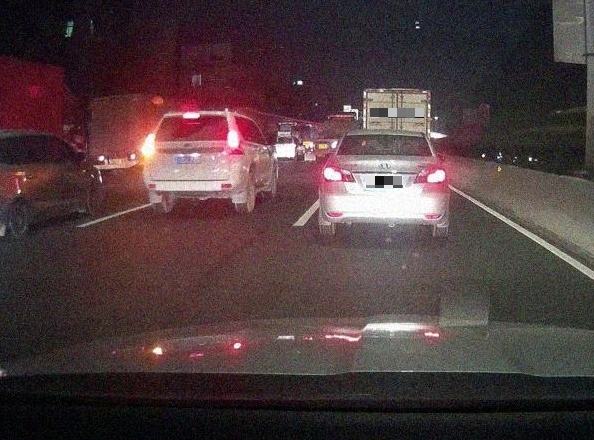L_light: (323, 166, 356, 183), (142, 134, 156, 156)
R_light: (413, 165, 446, 183), (226, 130, 244, 155)
T_light: (183, 112, 200, 119), (380, 134, 394, 137)
night-left: (140, 111, 248, 214)
night-no: (318, 129, 450, 238)
plate_1: (370, 108, 424, 118)
plate_2: (366, 176, 403, 188)
